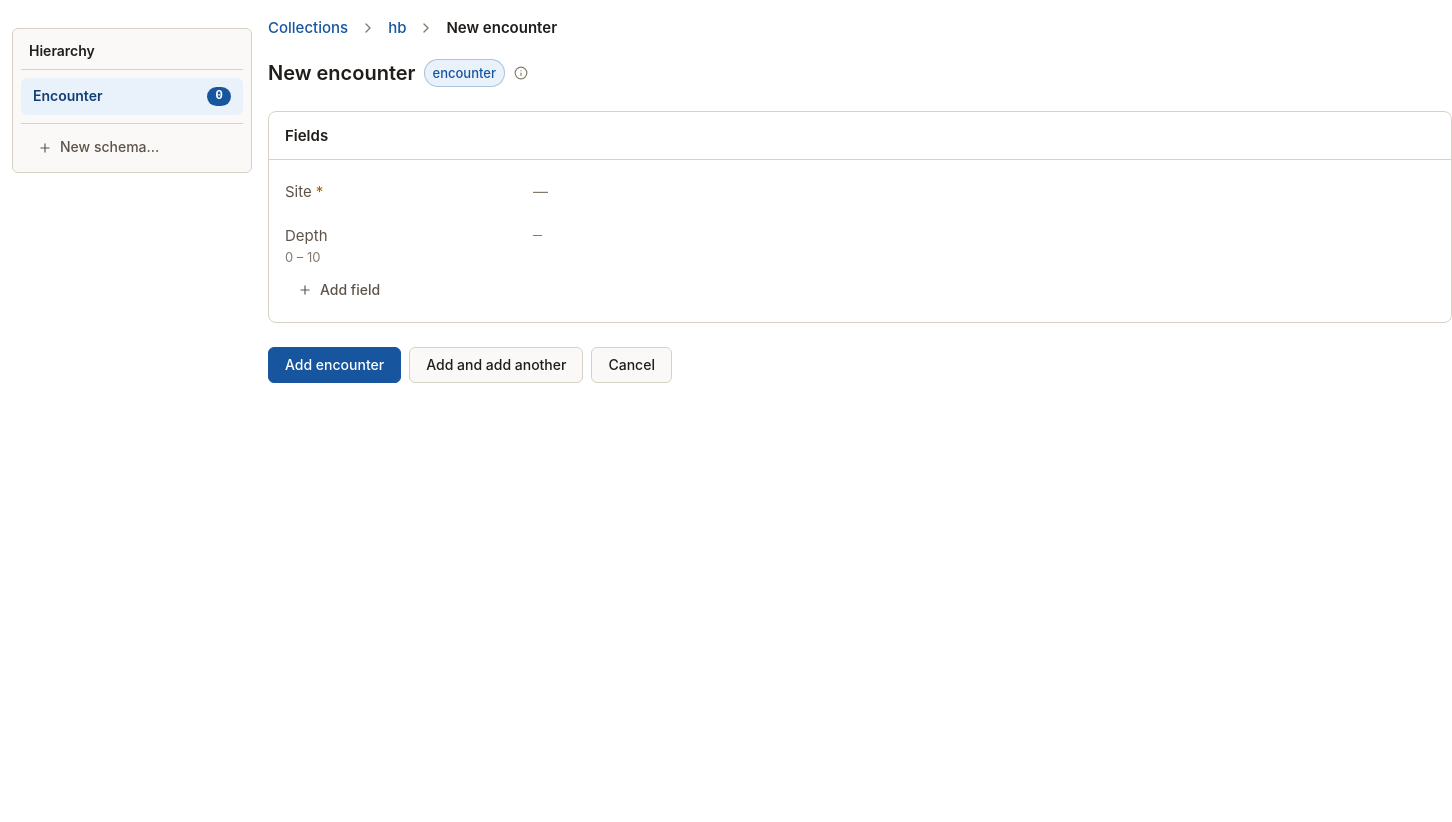
Test: NewRecordPage › shows blank rows with their rules, and adds what was filled in
Expected: the text "0 – 10" is shown, [285,249,320,265]
Step 1. Click the button titled "Click to edit" in the row of "Site" → point(540, 192), box [533,182,548,201]
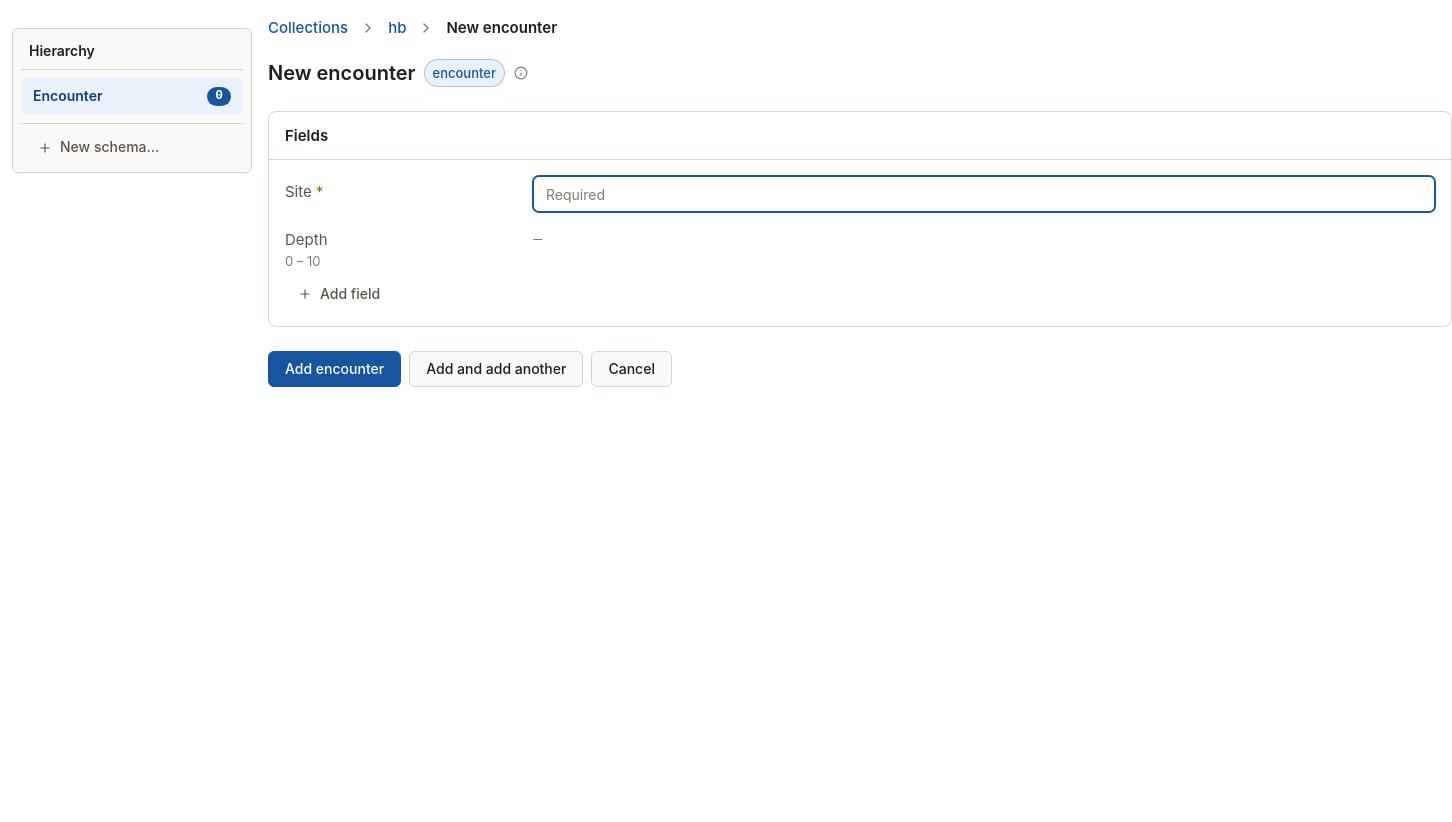
Step 2. Type "Stellwagen" into the field → point(984, 194), box [533,176,1435,212]
Then press Enter
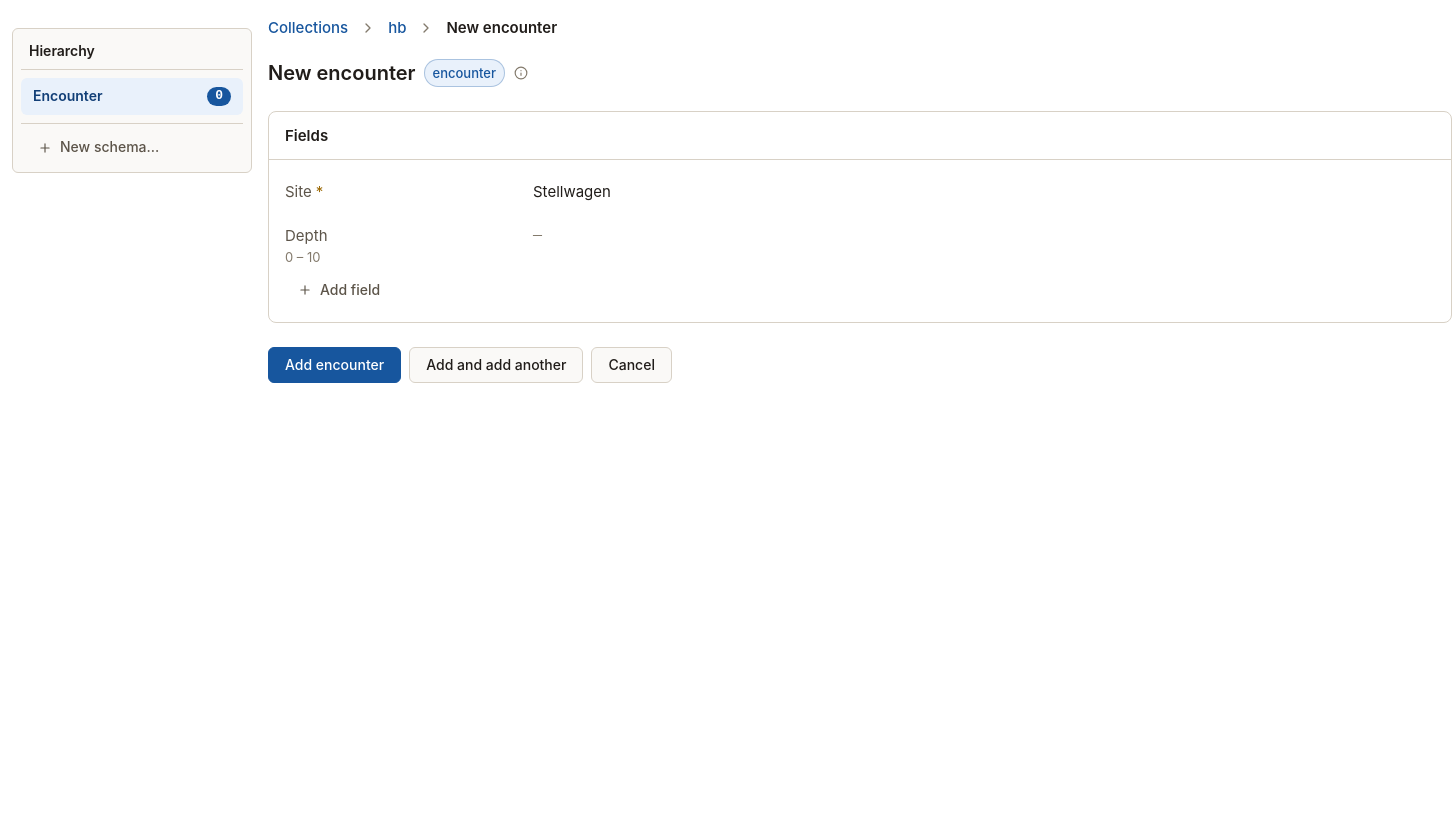
Step 3. Click the button "Add encounter" → point(335, 365), box [268,347,401,383]
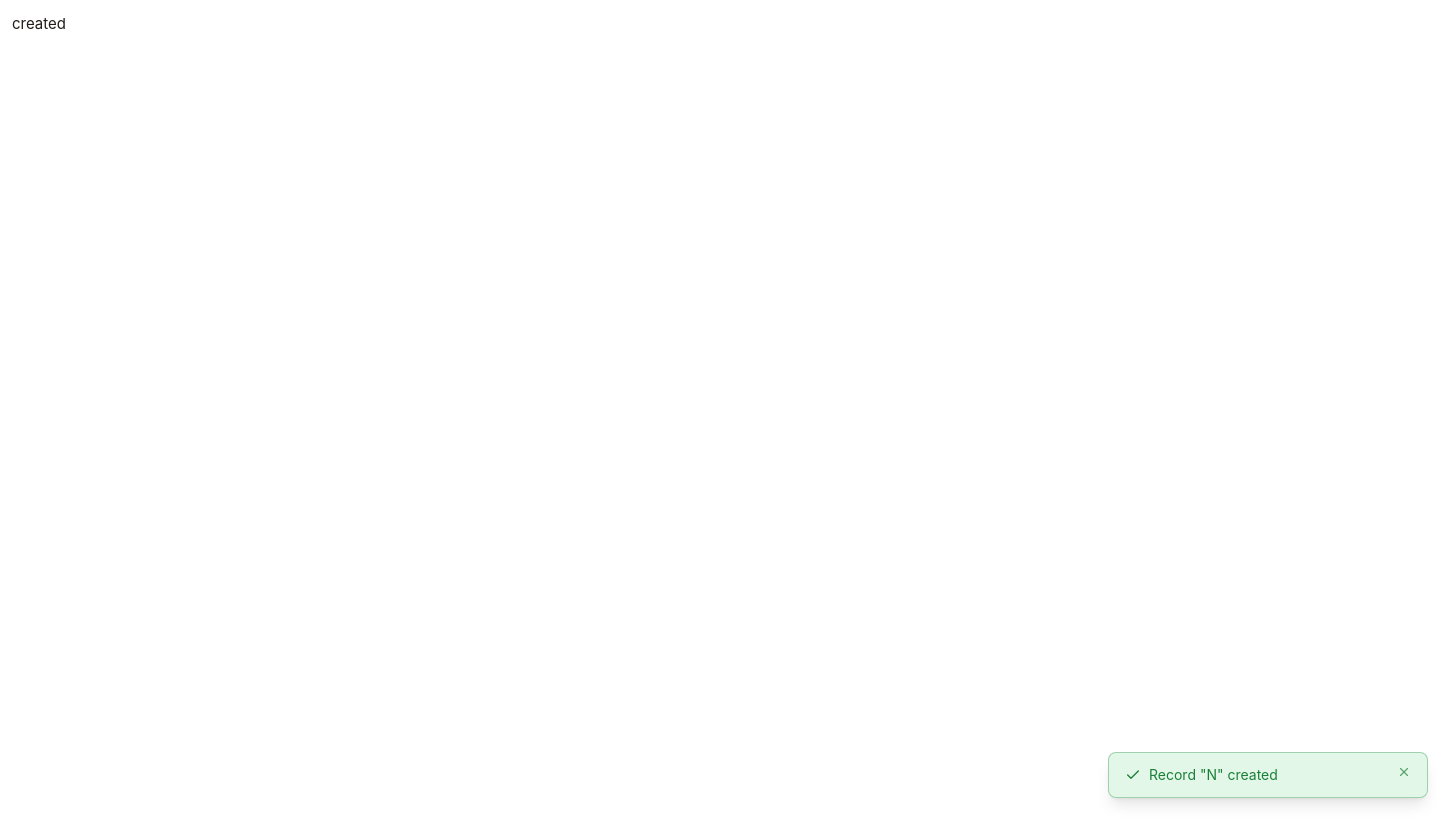
Result: the text "created" is shown at [12,14,66,33]
